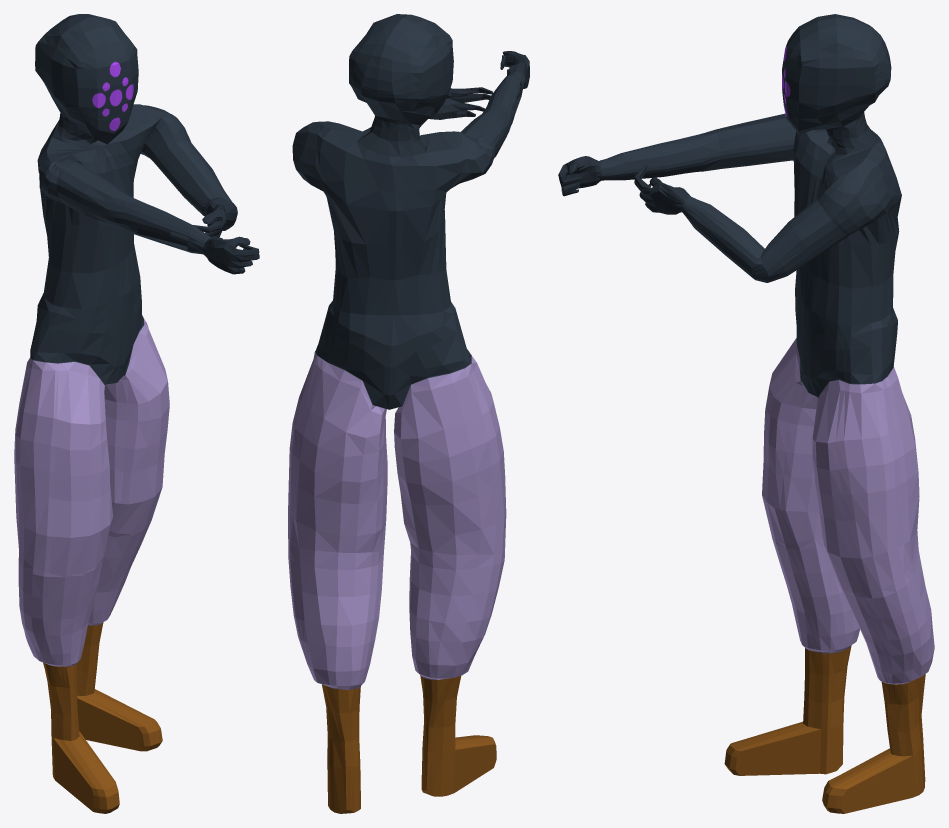
File: Oracle_Attack_000008.obj
The picture shows the model from 3 angles, left to right: view 1: azimuth 30°, elevation 25°; view 2: azimuth 150°, elevation 25°; view 3: azimuth 270°, elevation 25°; orthographic projection. The views are drawn at different scales.
Visible parts, largest first — view 1: Cube; view 2: Cube; view 3: Cube.
Part boxes in pixels (x1=…): Cube: x1=14, y1=14, x2=259, y2=813; Cube: x1=288, y1=14, x2=529, y2=813; Cube: x1=558, y1=14, x2=934, y2=813.
Size of the model in its own units: 1.06 by 3.94 by 1.75.
